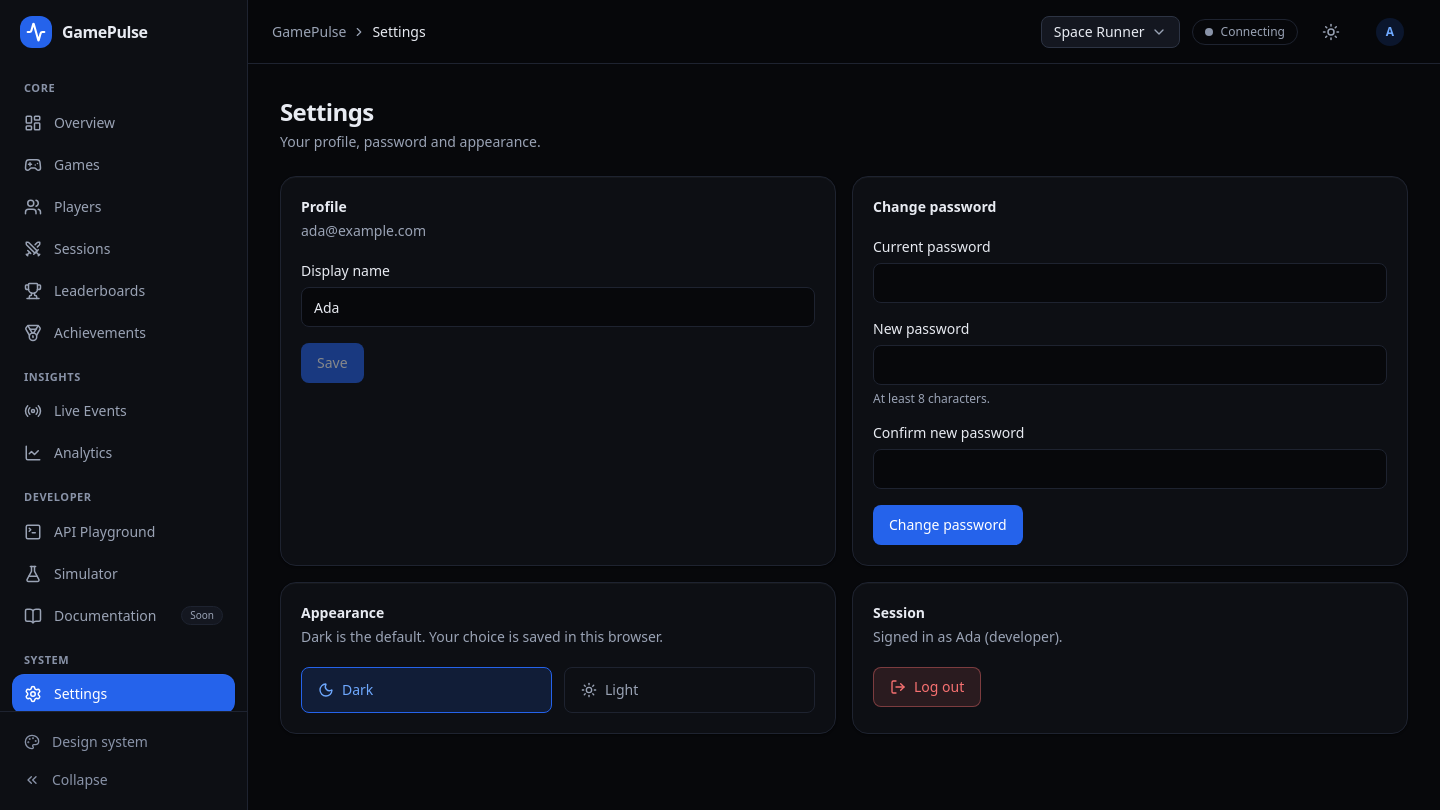
Settings page › signs out after a successful password change, because old tokens stop working
This screenshot has width=1440, height=810.
In the password field labelled "Current password": [1130, 283] box [873,263,1387,303], type "old-password"
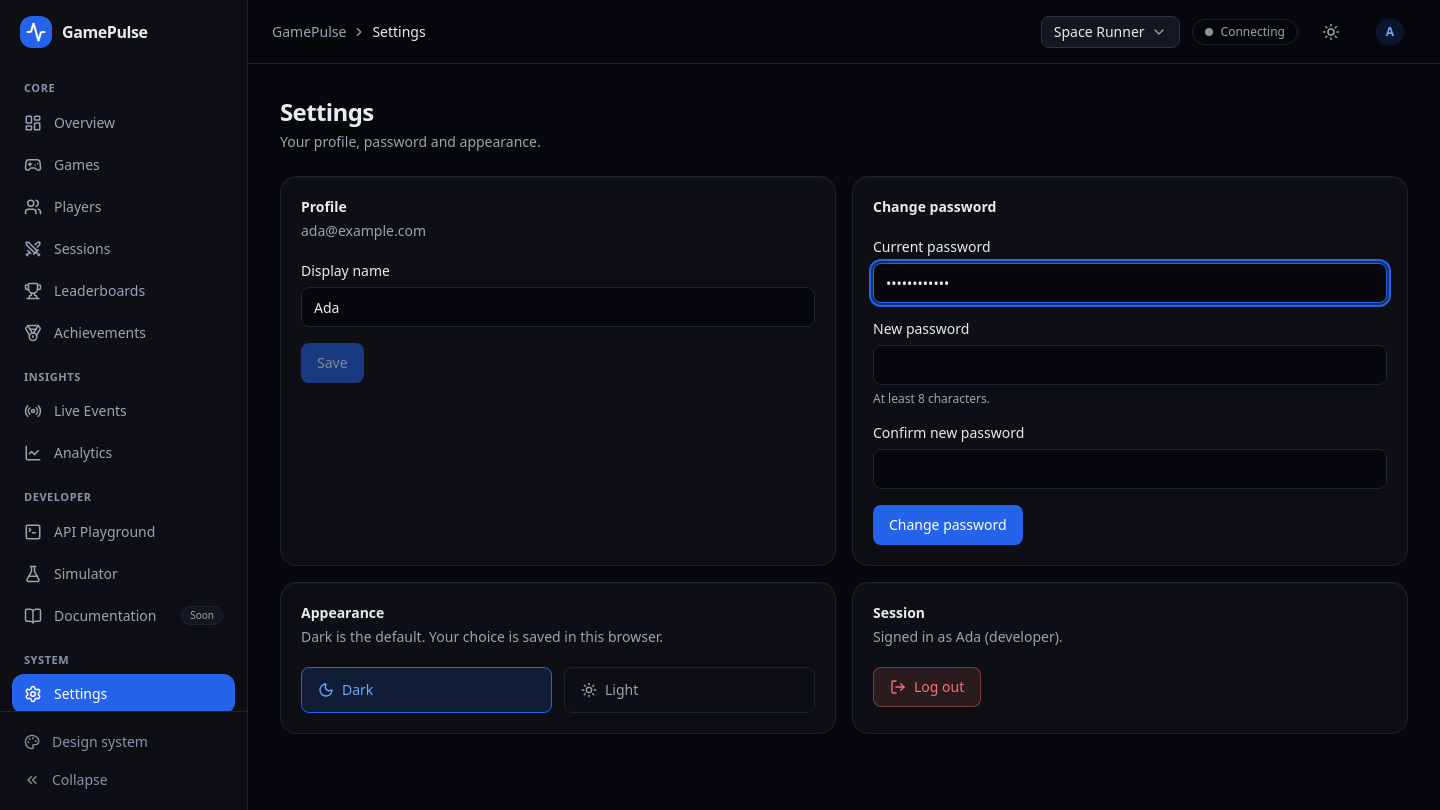
In the password field labelled "New password": [1130, 365] box [873,345,1387,385], type "new-password-1"
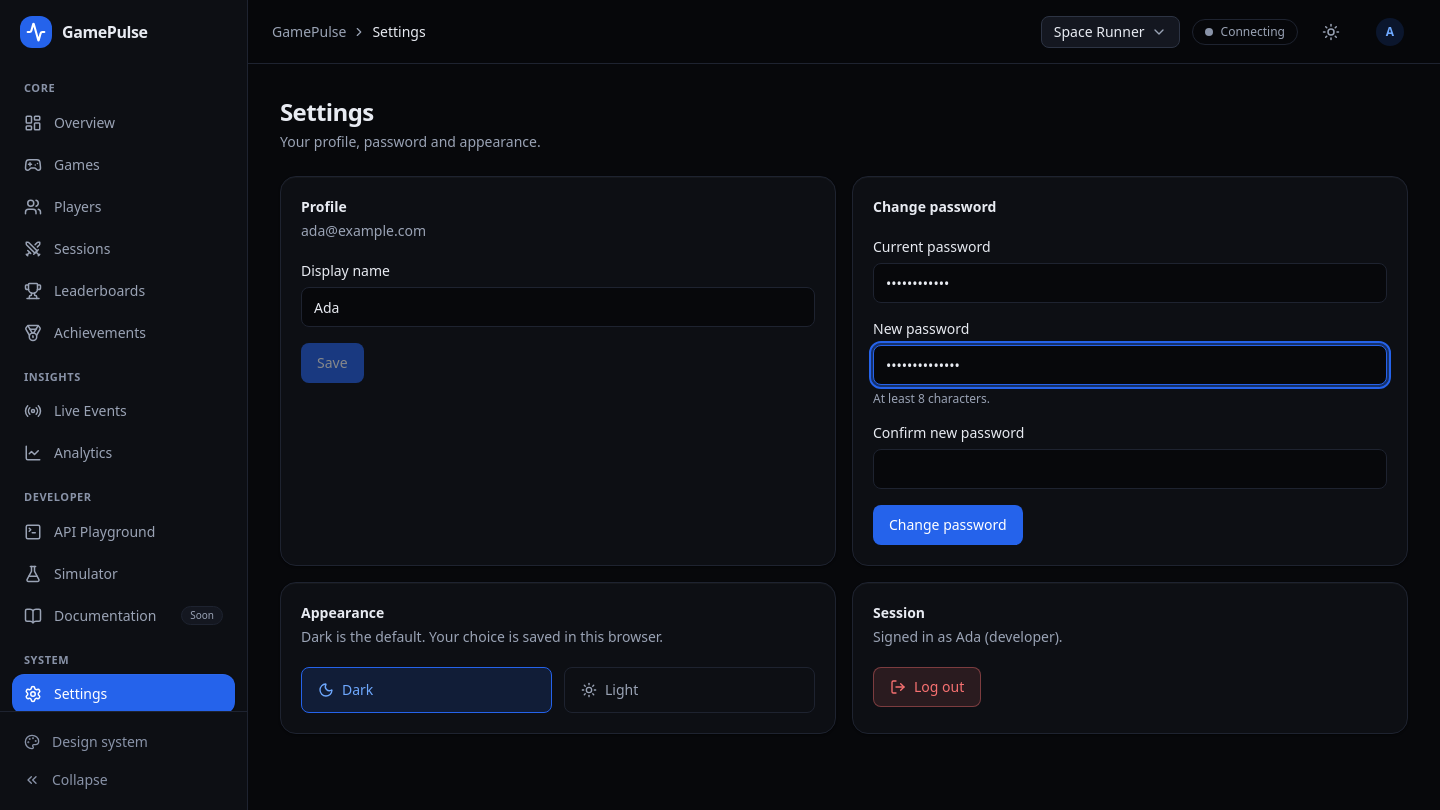
In the password field labelled "Confirm new password": [1130, 469] box [873,449,1387,489], type "new-password-1"
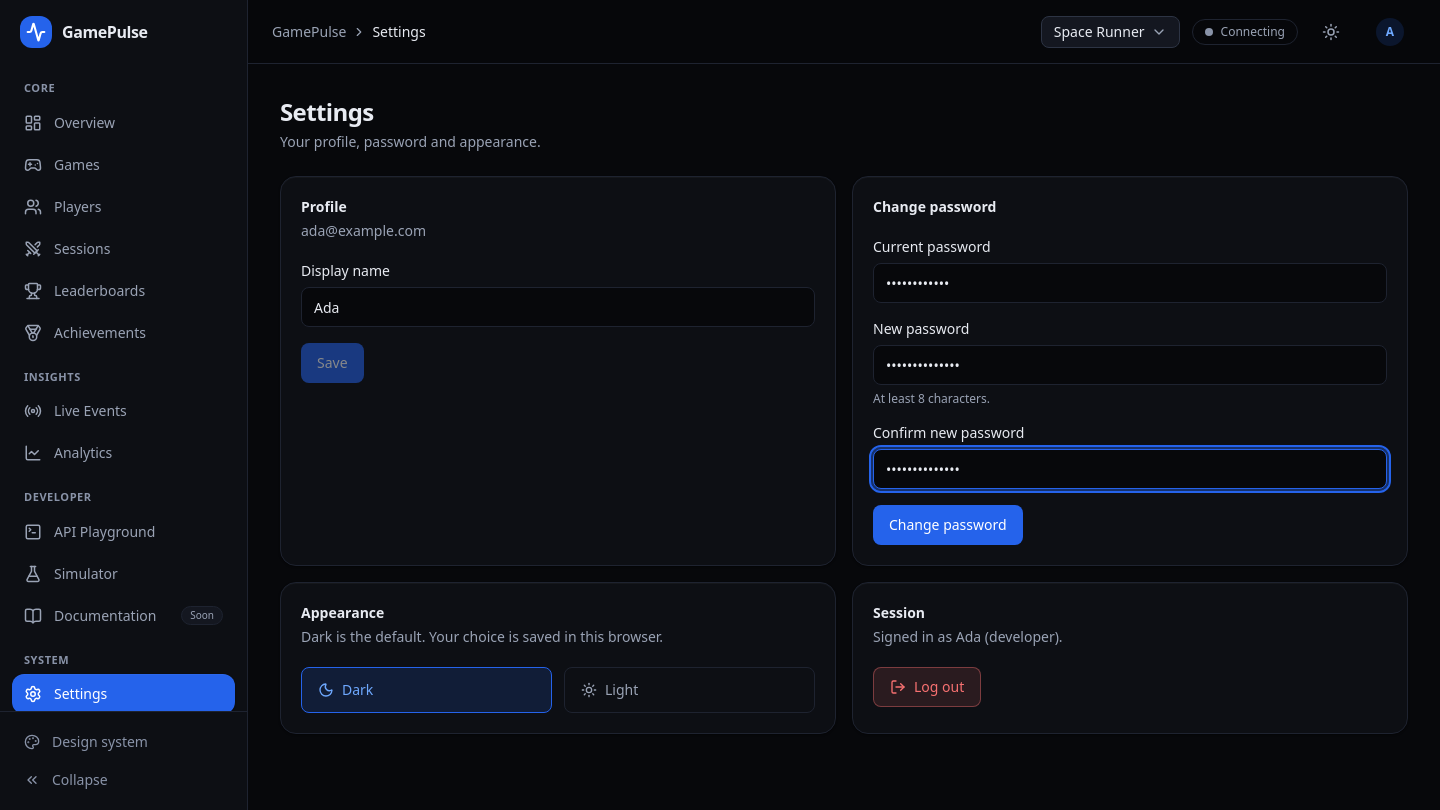
Click the button "Change password": [948, 525] box [873,505,1023,545]
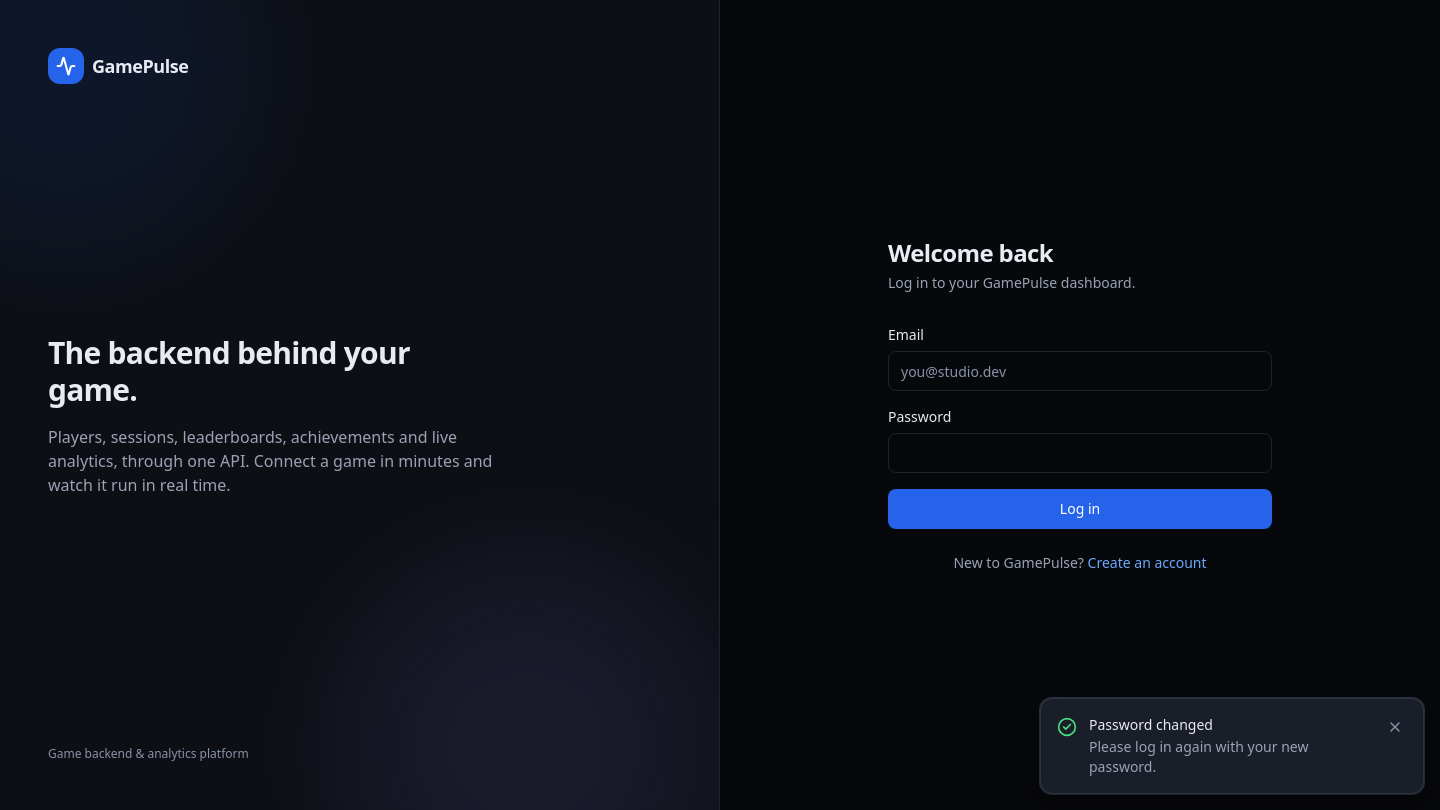
Result: the heading "Welcome back" is shown at [888,236,1053,269]
